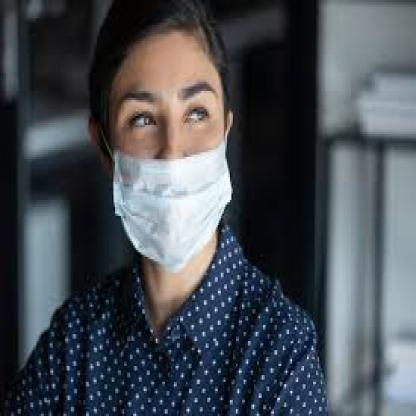Wearing_Mask: (102, 27, 223, 298)
